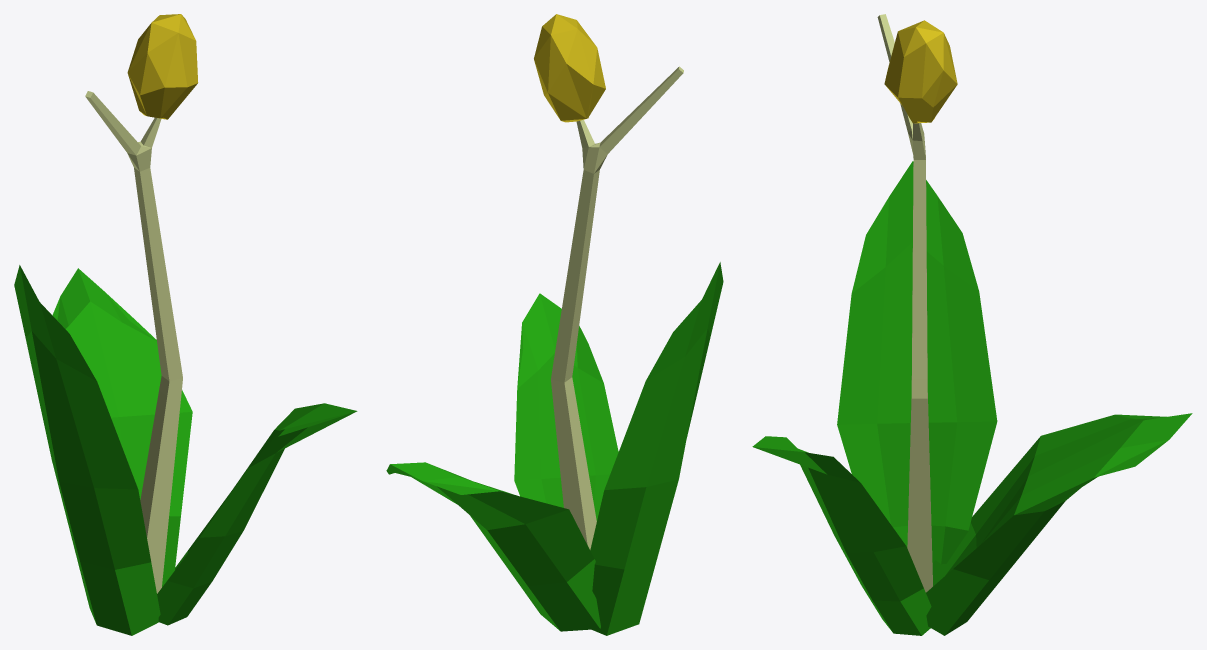
The model's file is Flower_2.fbx.
The picture shows the model from 3 angles, left to right: view 1: azimuth 30°, elevation 25°; view 2: azimuth 150°, elevation 25°; view 3: azimuth 270°, elevation 25°; orthographic projection. The views are drawn at different scales.
Parts seen in each view (by area): view 1: Flower2_mesh; view 2: Flower2_mesh; view 3: Flower2_mesh.
Part boxes in pixels (box(x1,y1,x2,y2)): Flower2_mesh: box(14, 14, 357, 635); Flower2_mesh: box(386, 14, 723, 635); Flower2_mesh: box(752, 14, 1192, 635).
Size of the model in its own units: 28.17 by 61.64 by 40.4.
